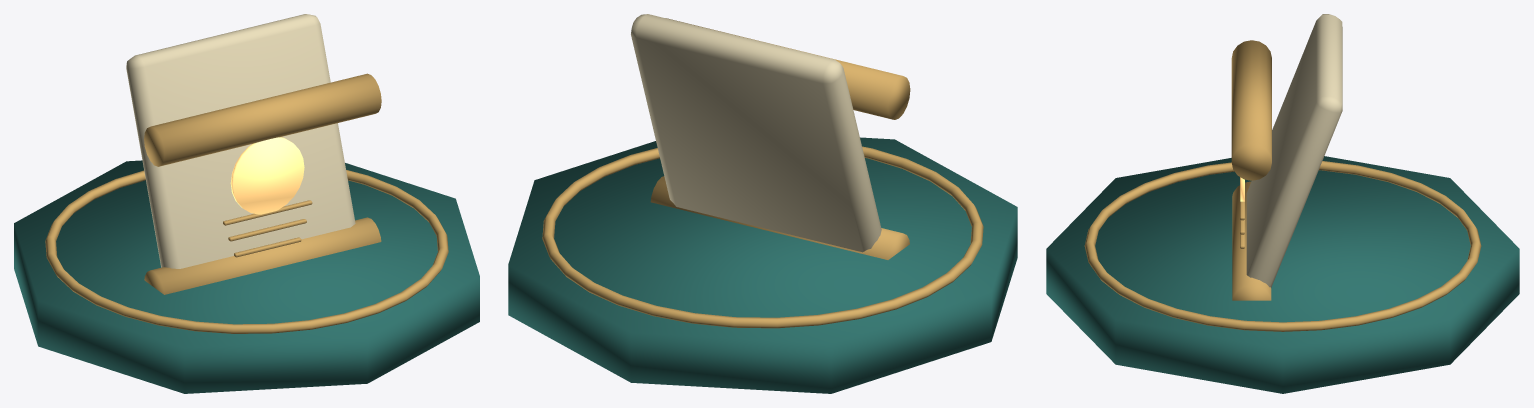
The picture shows the model from 3 angles, left to right: view 1: azimuth 30°, elevation 25°; view 2: azimuth 150°, elevation 25°; view 3: azimuth 270°, elevation 25°; orthographic projection. The views are drawn at different scales.
Visible parts, largest first — view 1: Hexagonal plinth, Parchment, Rolled parchment edge.001, Inlaid rim, Rolled parchment edge, 3B embossed seal, Embossed line.001, Embossed line; view 2: Hexagonal plinth, Parchment, Inlaid rim, Rolled parchment edge.001, Rolled parchment edge; view 3: Hexagonal plinth, Parchment, Inlaid rim, Rolled parchment edge.001, Rolled parchment edge.
Part boxes in pixels (x1,y1,x2,y2): Hexagonal plinth: (14, 160, 479, 393); Parchment: (126, 14, 355, 268); Rolled parchment edge.001: (144, 73, 381, 166); Inlaid rim: (45, 170, 448, 333); Rolled parchment edge: (144, 217, 381, 294); 3B embossed seal: (230, 137, 304, 214); Embossed line.001: (228, 219, 306, 241); Embossed line: (223, 200, 312, 225); Hexagonal plinth: (508, 137, 1017, 393); Parchment: (631, 14, 881, 252); Inlaid rim: (542, 146, 983, 328); Rolled parchment edge.001: (666, 18, 910, 119); Rolled parchment edge: (650, 176, 909, 259); Hexagonal plinth: (1046, 156, 1519, 393); Parchment: (1246, 14, 1342, 287); Inlaid rim: (1084, 161, 1481, 331); Rolled parchment edge.001: (1231, 40, 1271, 180); Rolled parchment edge: (1232, 181, 1271, 300).
Bounding box in the file's own units: 1.52 × 0.8899 × 1.52.
